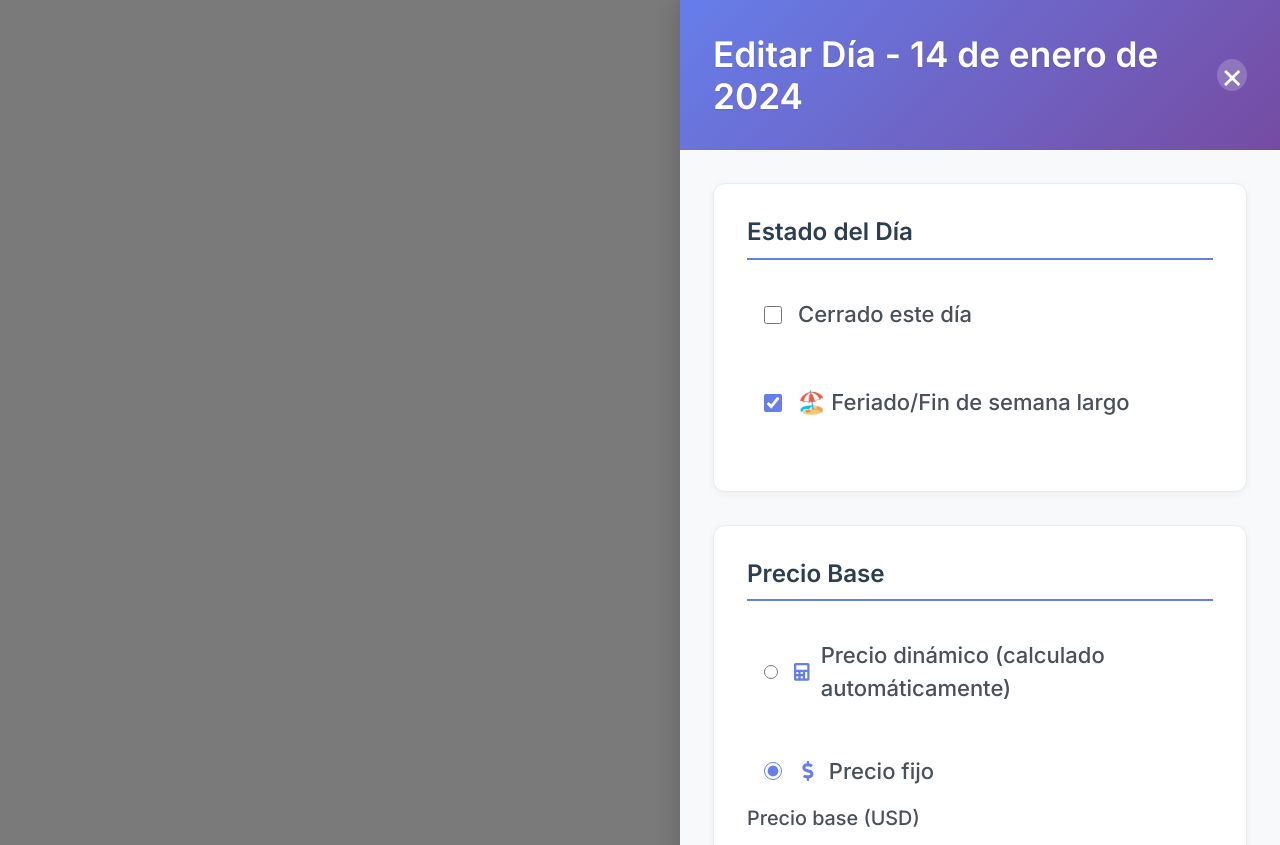
DayEditPanel › allows editing price type when day is open
The width and height of the screenshot is (1280, 845).
Expected: the radio button labelled "Precio fijo" is checked, [764,762,782,780]
What coordinates should you click on to do the following:
click the radio button labelled "Precio dinámico (calculado automáticamente)"
I would click on:
 (771, 672)
Its box is [764,663,778,681].
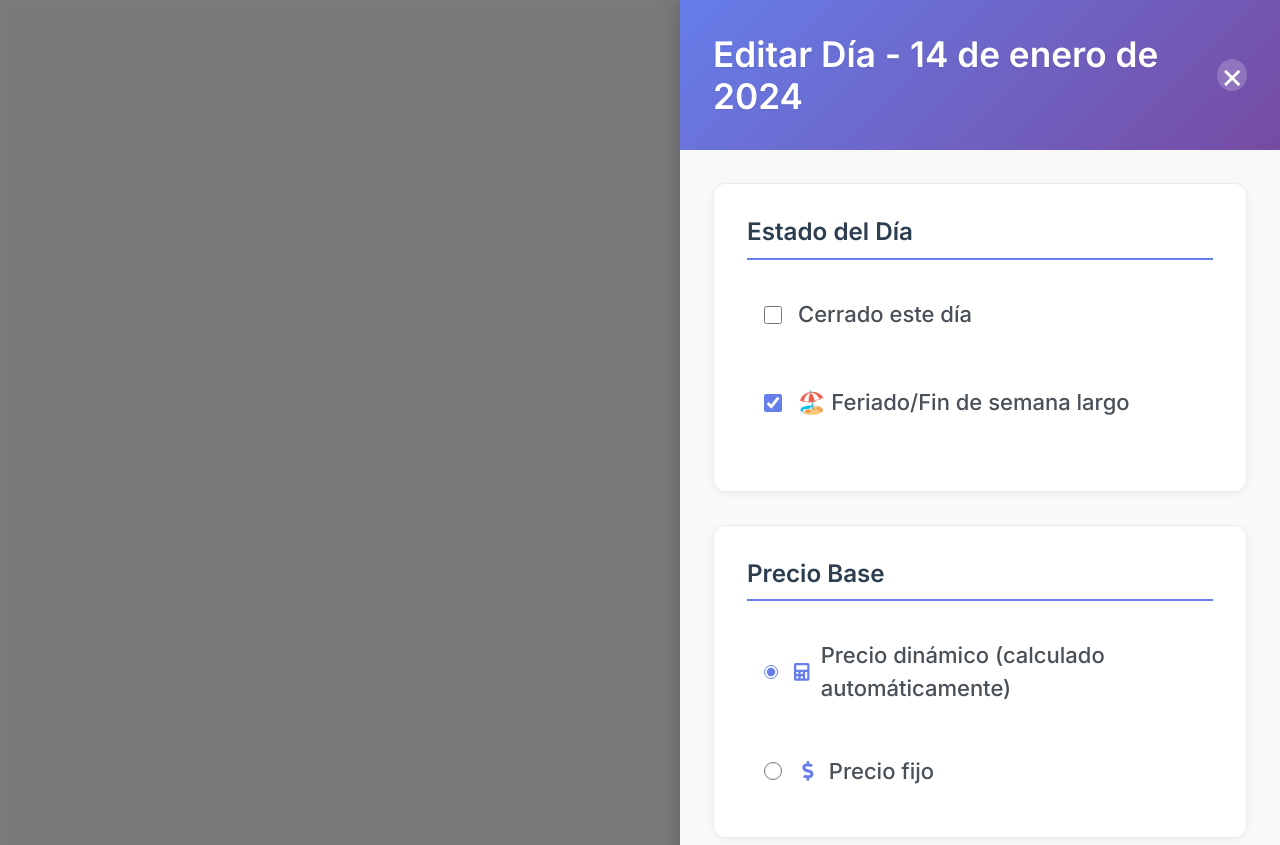
Result: the radio button labelled "Precio dinámico (calculado automáticamente)" is checked at [764,663,778,681]
Result: the radio button labelled "Precio fijo" is not checked at [764,762,782,780]
